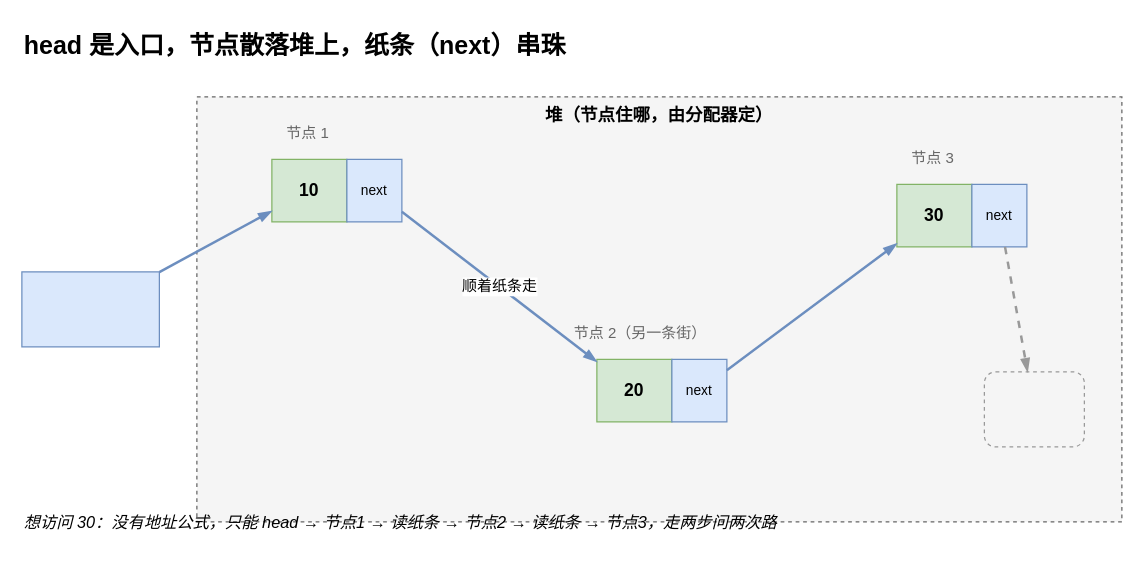
Image size: 1144x568. Some labels were removed from this diagram. Here are the shapes that lost their labels. From the top down, the centre of each, then its label:
the point at 90,309: head （栈上的句柄）
the point at 1033,409: nullptr （到头了）
